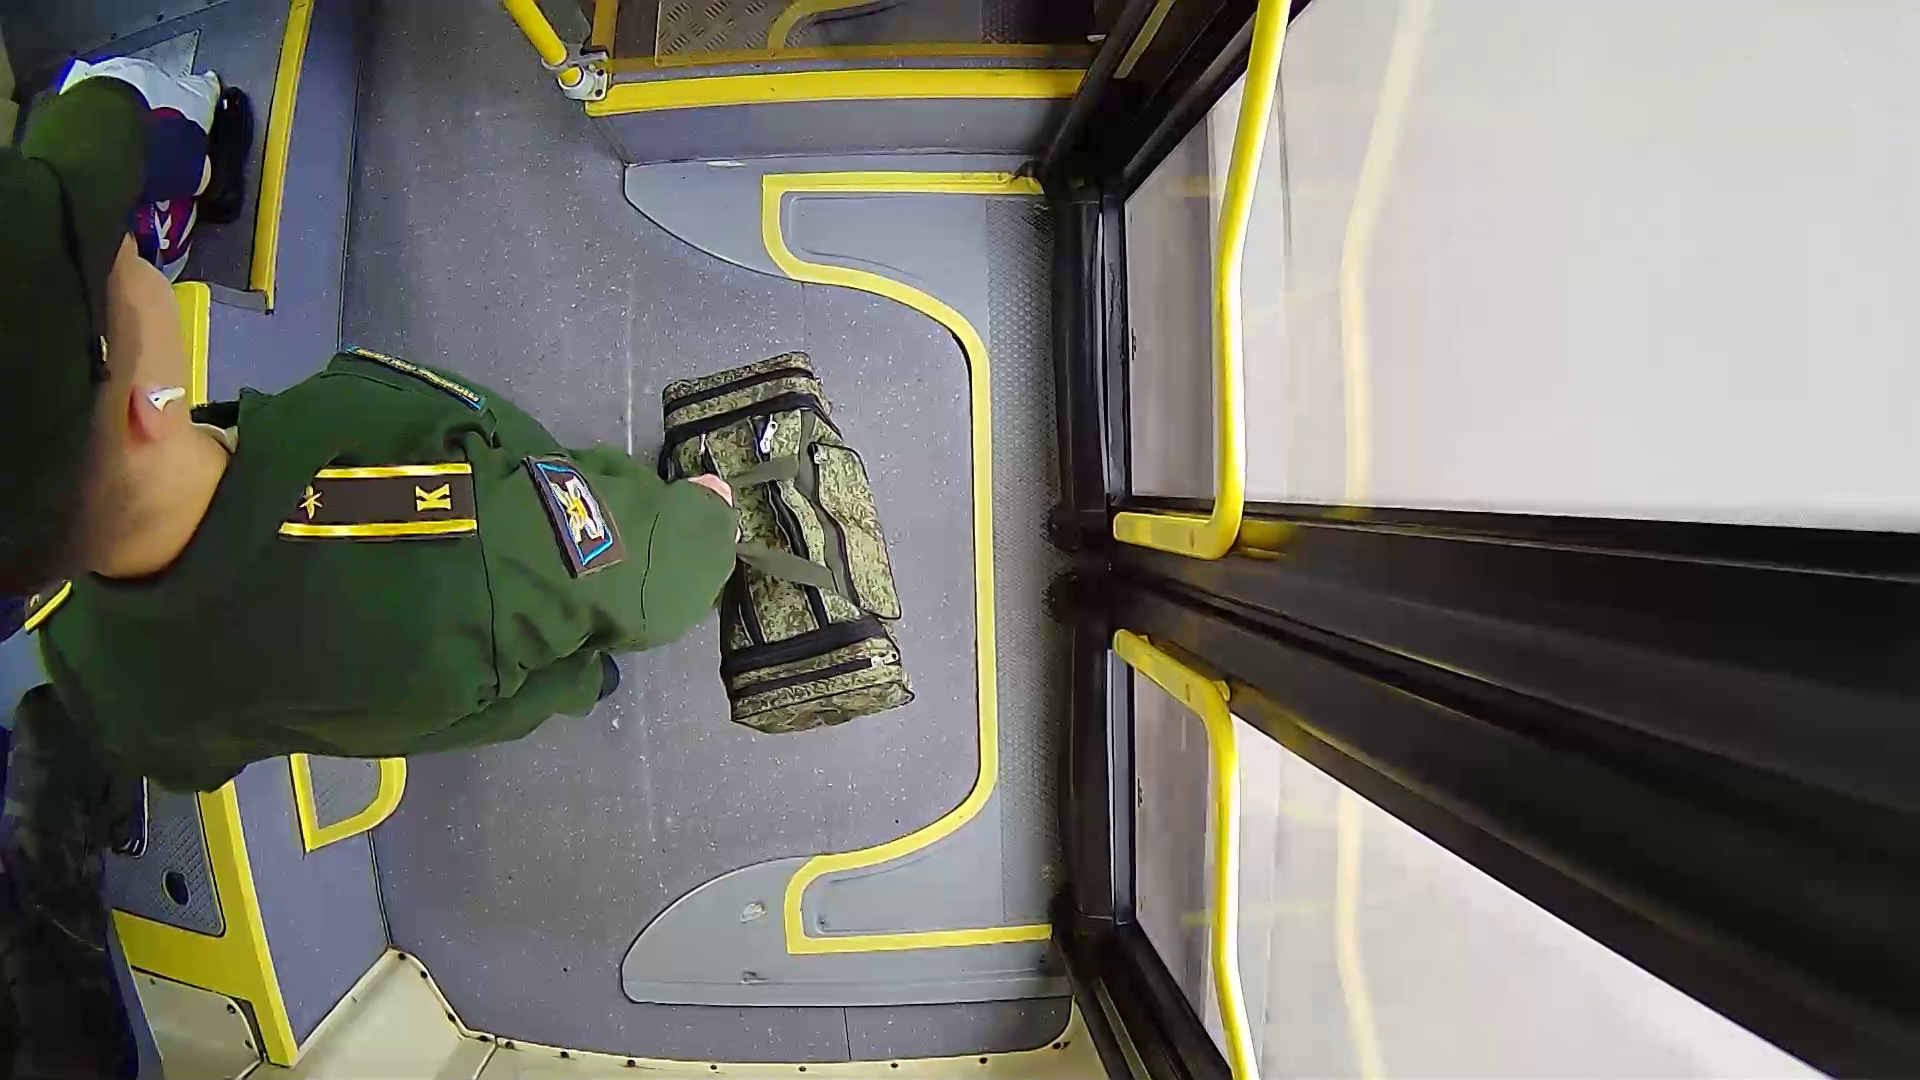person: (10, 138, 791, 756)
